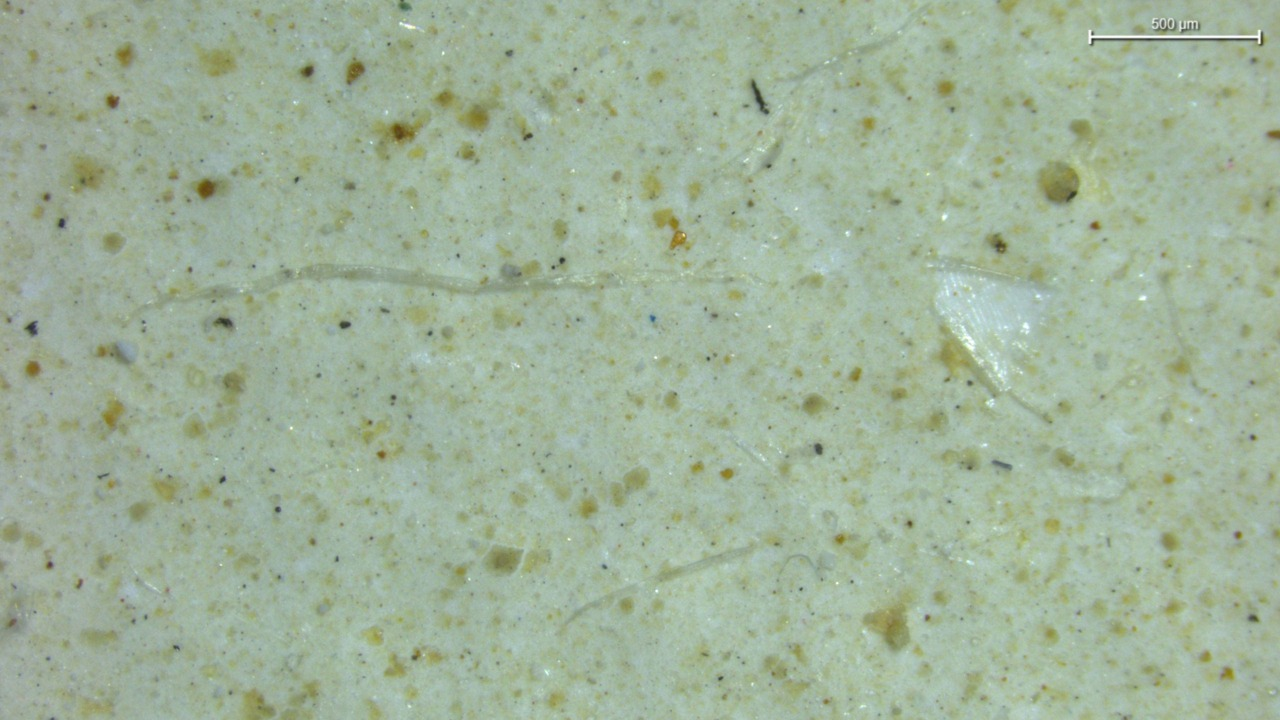microplastic_fragment: (934, 262, 1053, 392), (115, 341, 137, 362)
